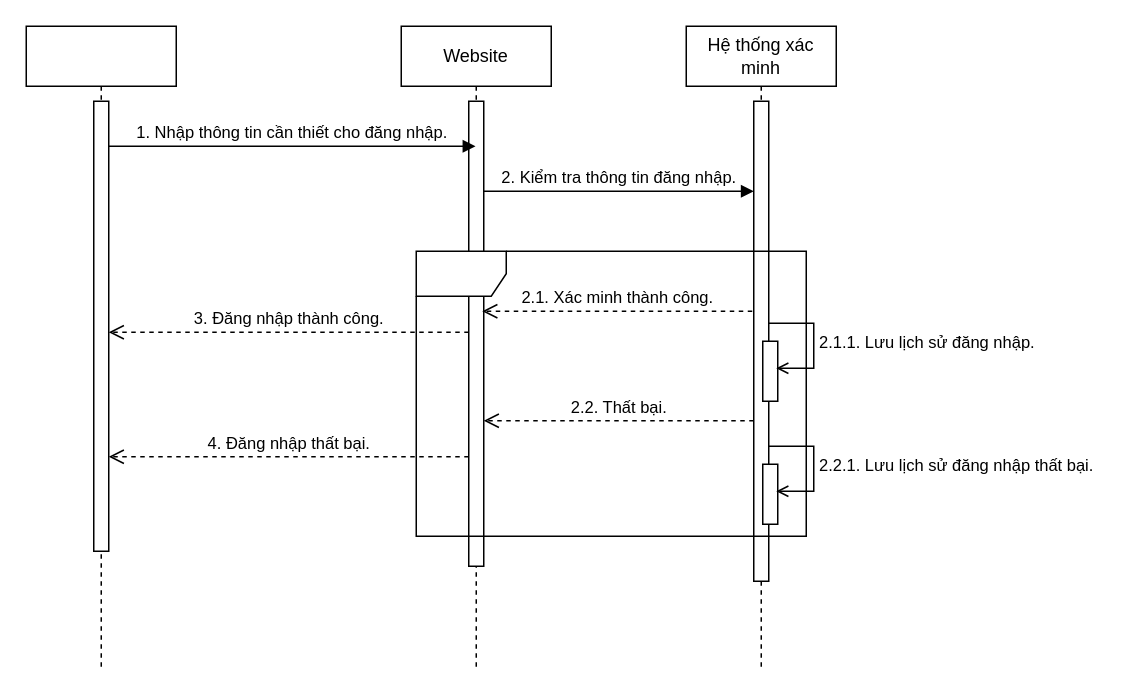
Image size: 1121x698. Some labels were removed from this diagram. The shapes that lost their labels are listed below. From the top down, each one's box as (x1, y1, x2, y2) in pixels, then its label:
(25, 25, 176, 671): Khách hàng
(415, 250, 806, 536): alt
